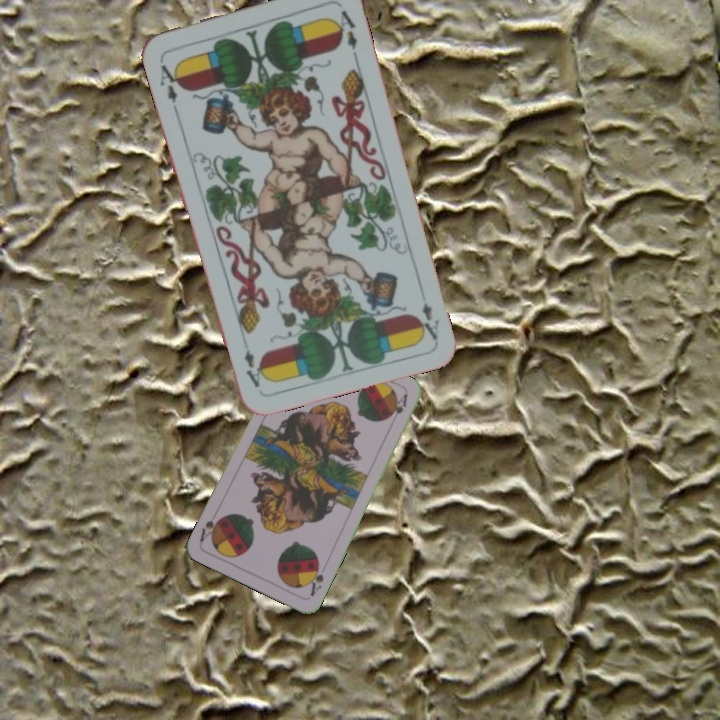EA: (155, 56, 185, 113), (412, 299, 442, 343)
SA: (304, 559, 326, 599)
